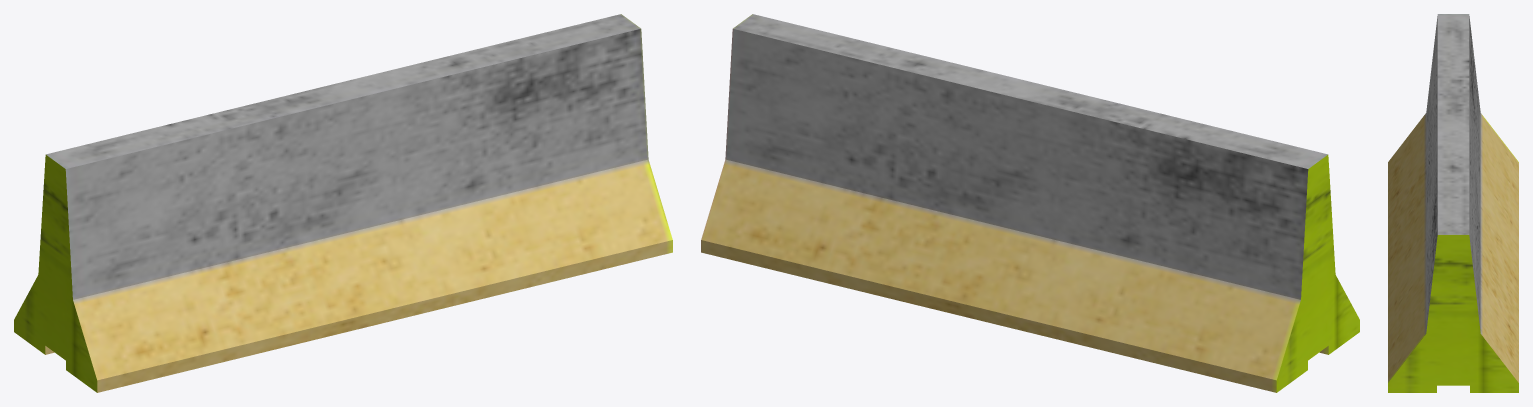
Rendered from barier_4.fbx.
3 views of the same model, side by side, from view 1: azimuth 30°, elevation 25°; view 2: azimuth 150°, elevation 25°; view 3: azimuth 270°, elevation 25° (orthographic). The views are drawn at different scales.
Parts seen in each view (by area): view 1: Barricada_Concreto__8; view 2: Barricada_Concreto__8; view 3: Barricada_Concreto__8.
Part boxes in pixels (bbox=[...]): Barricada_Concreto__8: bbox=[14, 14, 672, 392]; Barricada_Concreto__8: bbox=[701, 14, 1359, 392]; Barricada_Concreto__8: bbox=[1388, 14, 1518, 392].
Size of the model in its own units: 124 by 41.37 by 31.03.
